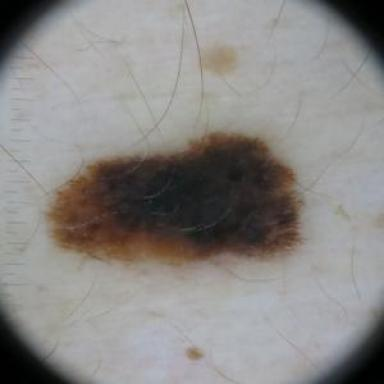Melanoma: (50, 133, 302, 259)
